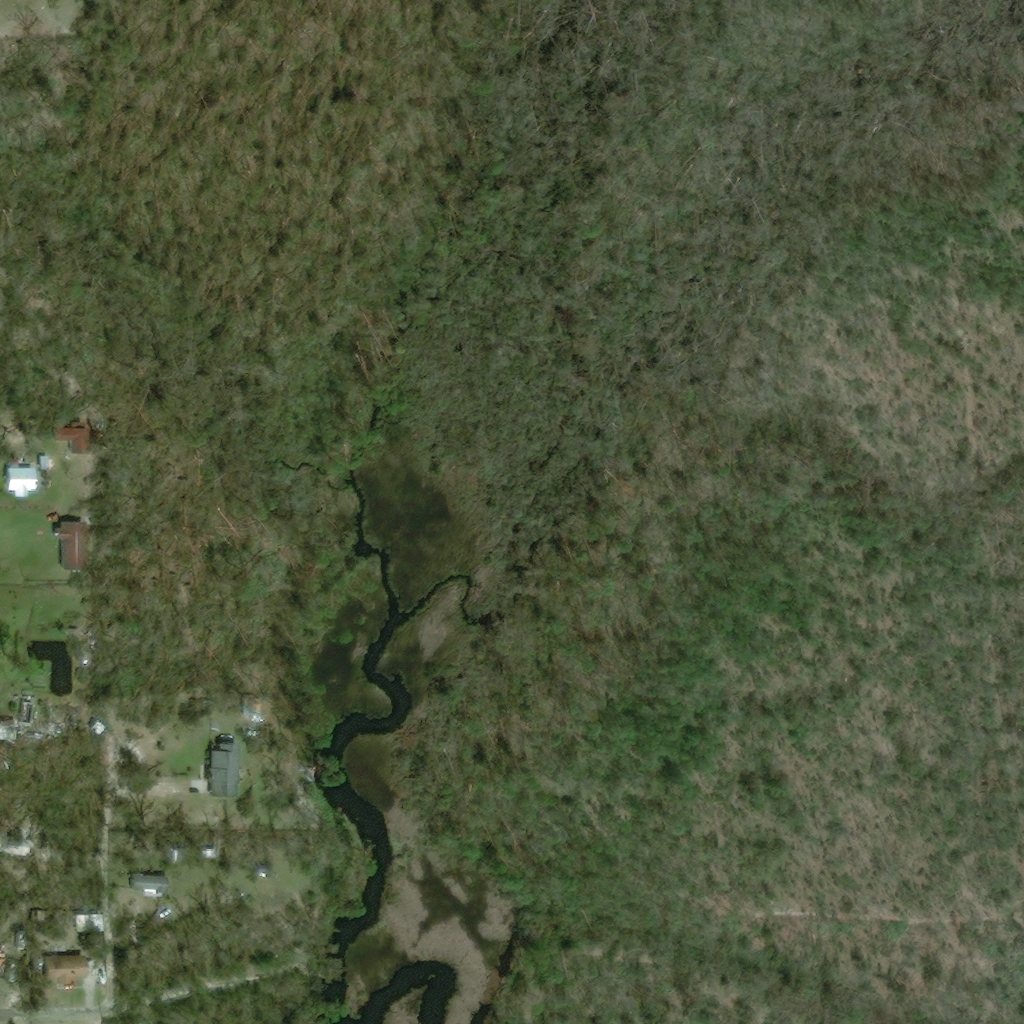no_damage: (205, 740, 243, 795), (43, 953, 96, 980), (5, 456, 36, 498), (52, 521, 79, 569), (131, 870, 170, 894), (79, 910, 105, 932), (53, 425, 76, 440), (0, 958, 8, 977), (40, 455, 49, 470), (98, 962, 107, 976)
